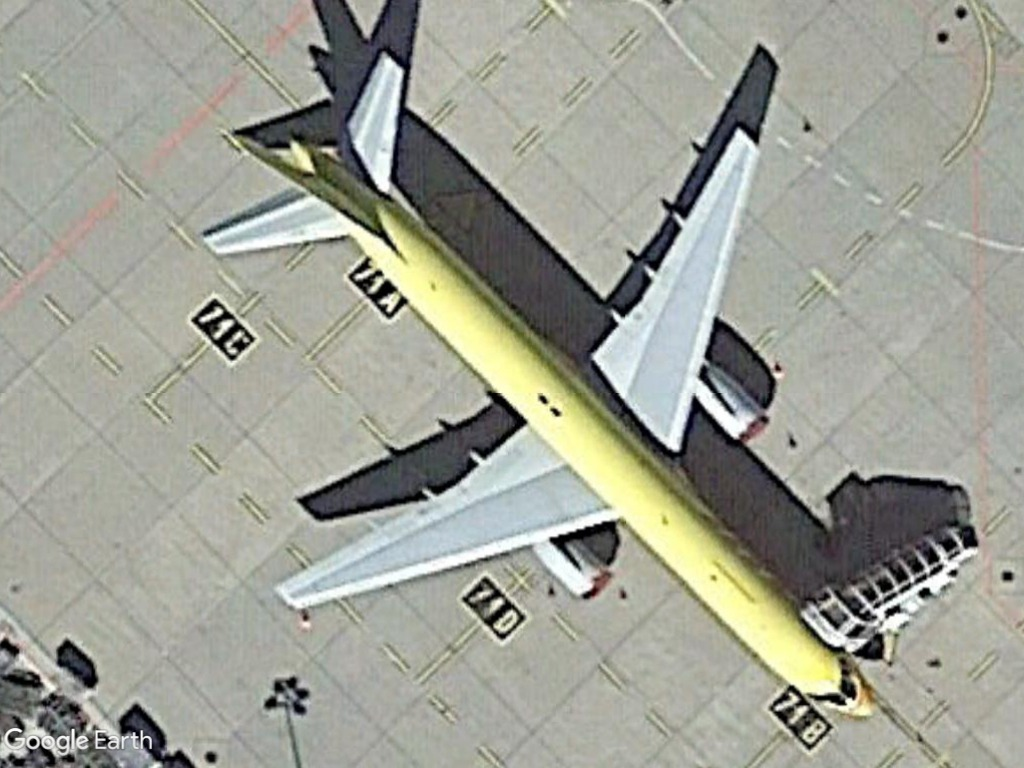airliner: (200, 46, 877, 721)
